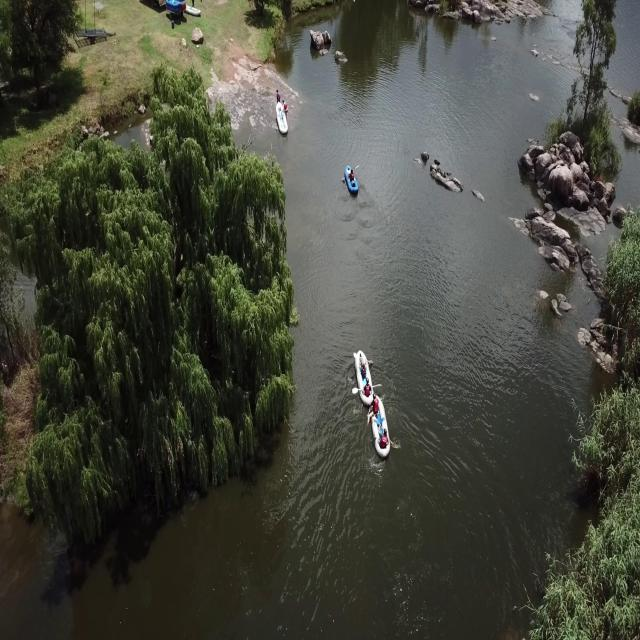kayak: (367, 396, 393, 461), (352, 344, 376, 408), (342, 164, 360, 199)
